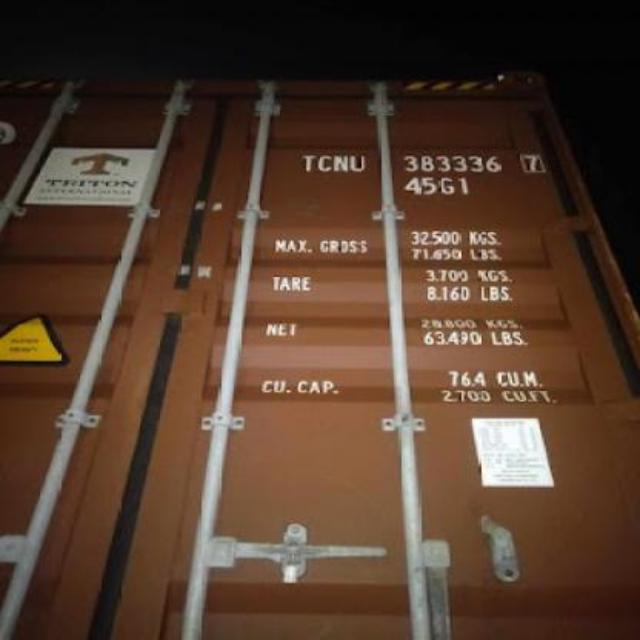3: (466, 152, 484, 174), (452, 154, 468, 174), (402, 153, 418, 171), (436, 154, 452, 172)
6: (484, 154, 500, 172)
7: (522, 154, 542, 170)
8: (420, 154, 436, 172)
C: (318, 154, 332, 172)
N: (334, 154, 348, 170)
T: (302, 154, 316, 170)
U: (350, 154, 366, 170)
